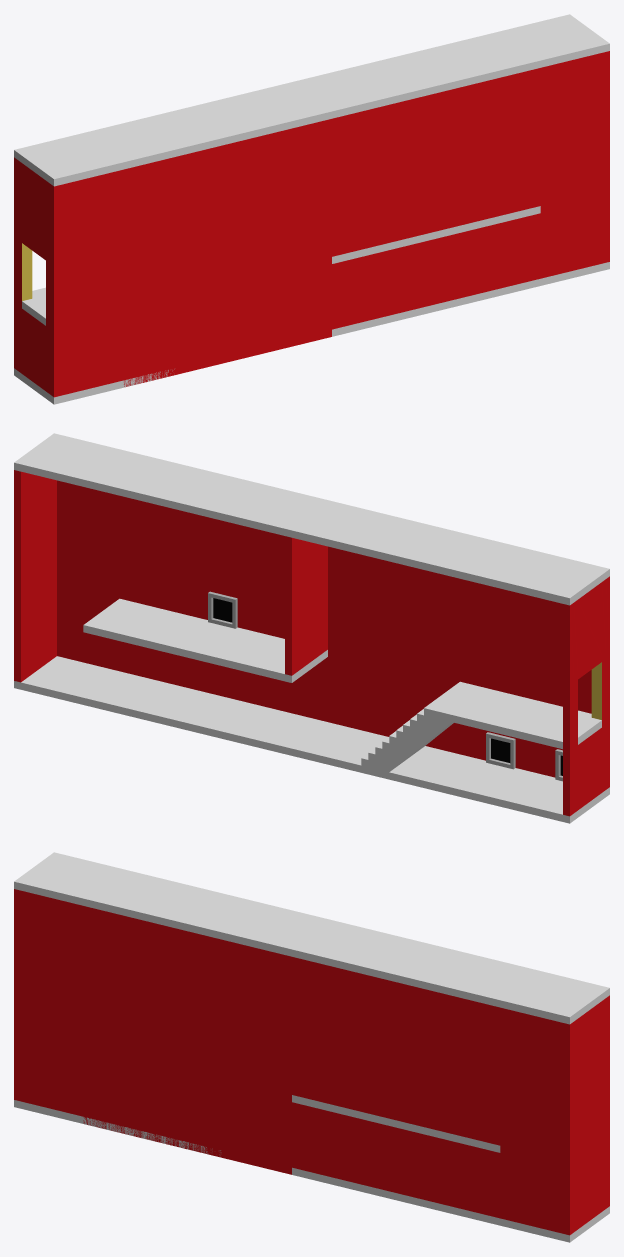
Rendered from Stairs_13_01.fbx.
3 renders of one model, top to bottom at view 1: azimuth 30°, elevation 25°; view 2: azimuth 150°, elevation 25°; view 3: azimuth 330°, elevation 25°, orthographic.
Parts seen in each view (by area): view 1: Floor_1by1.004; view 2: Floor_1by1.004; view 3: Floor_1by1.004.
Part boxes in pixels (x1,y1,x2,y2): Floor_1by1.004: (14,14,609,404); Floor_1by1.004: (14,433,609,823); Floor_1by1.004: (14,852,609,1242).
Bounding box in the file's own units: 800 × 310 × 100.
